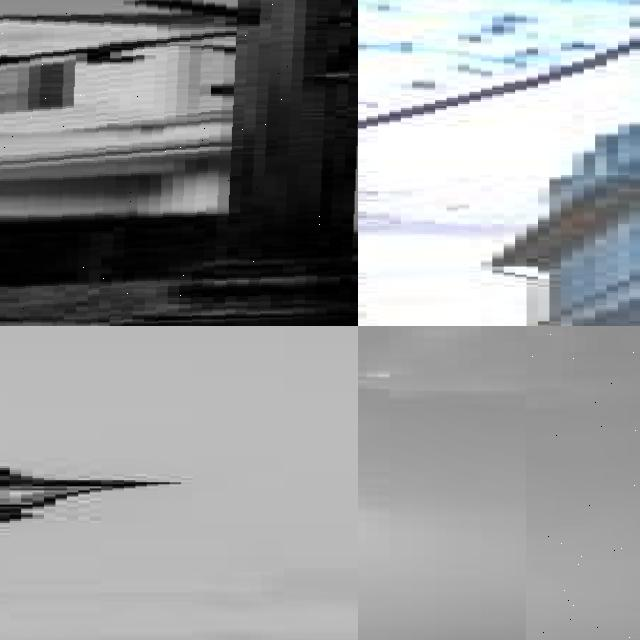street light: (0, 0, 358, 326), (526, 326, 640, 640), (0, 466, 158, 640)
